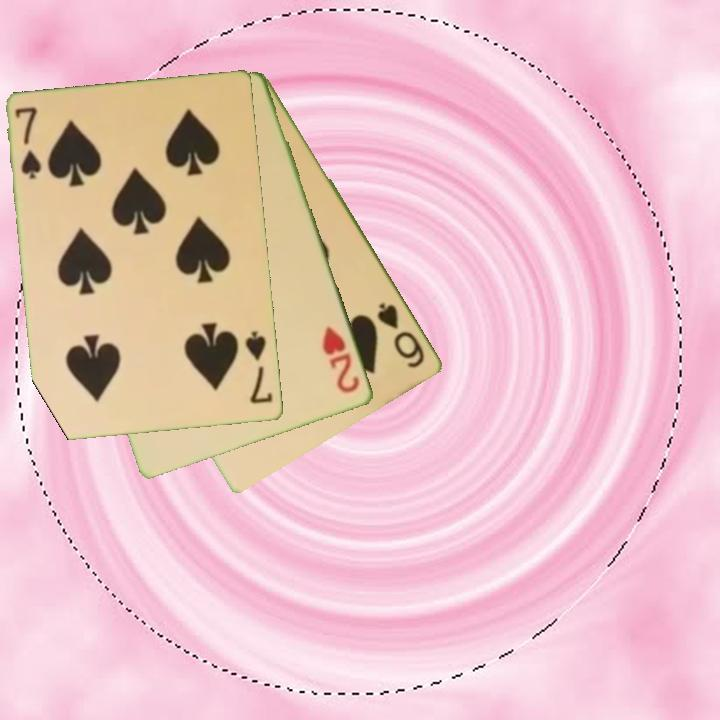2h: (319, 323, 363, 396)
6s: (374, 299, 429, 372)
7s: (242, 327, 276, 407), (12, 104, 45, 183)
